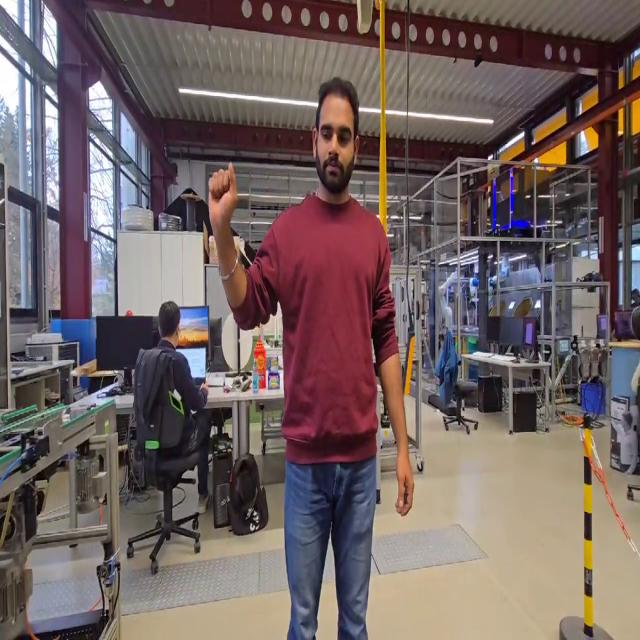closed_fist: (205, 156, 243, 238)
